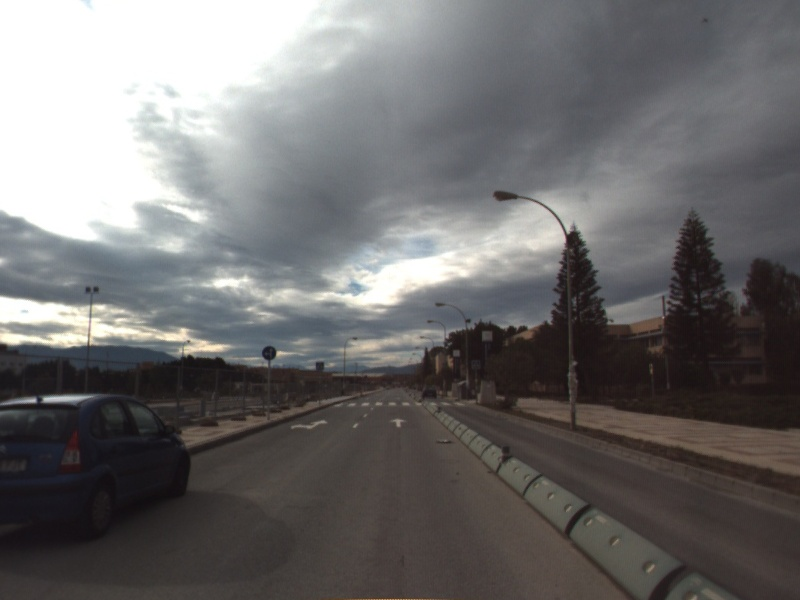STRAIGHT: (388, 416, 410, 429)
STRAIGHT_LEFT: (288, 417, 330, 432)
